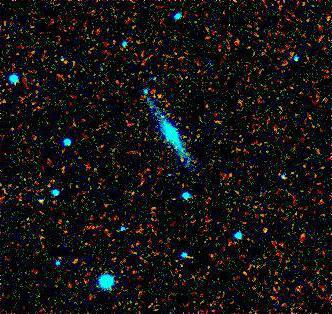star: (145, 80, 175, 110)
